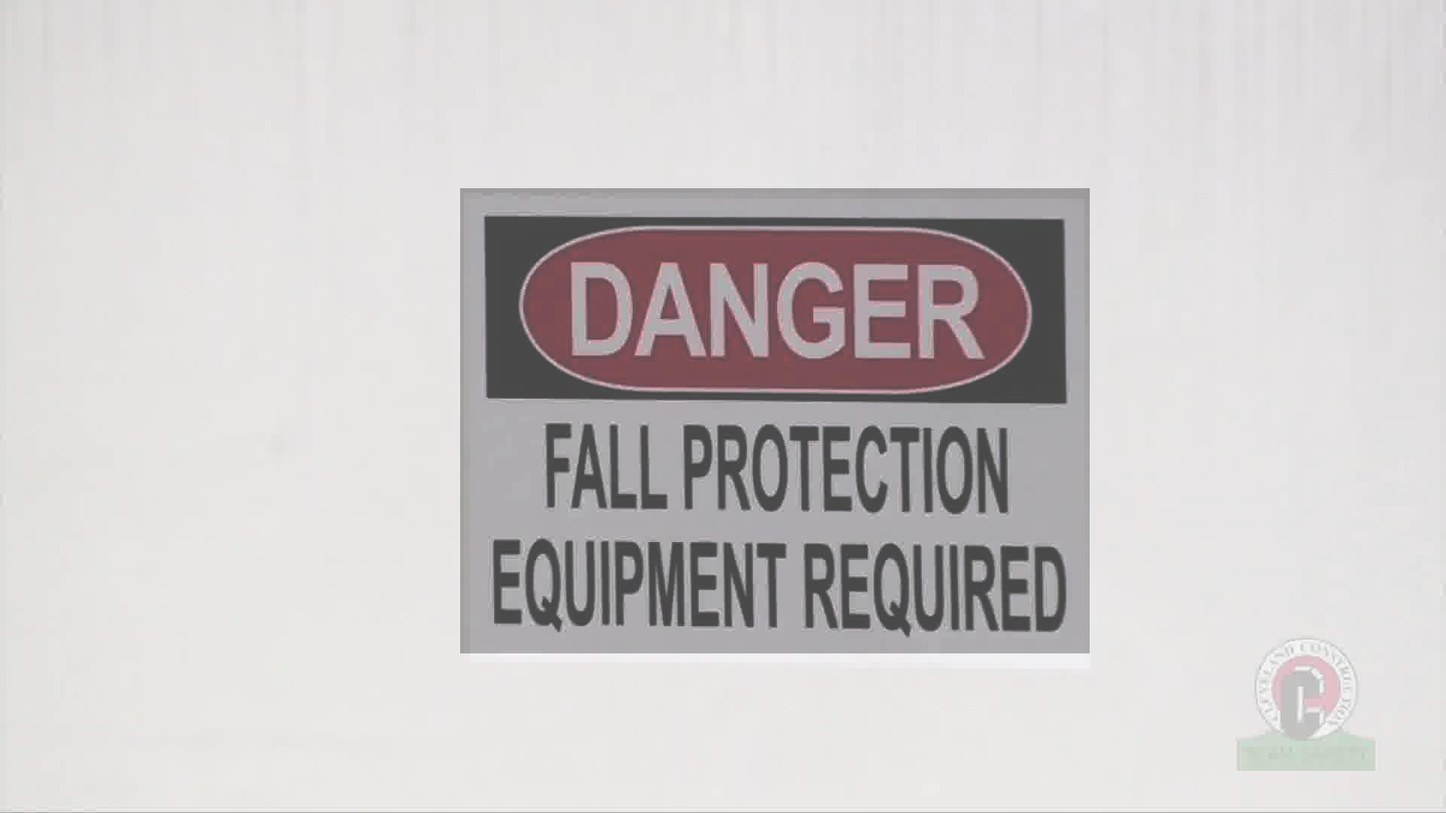safety_signage: (460, 188, 1090, 653)
